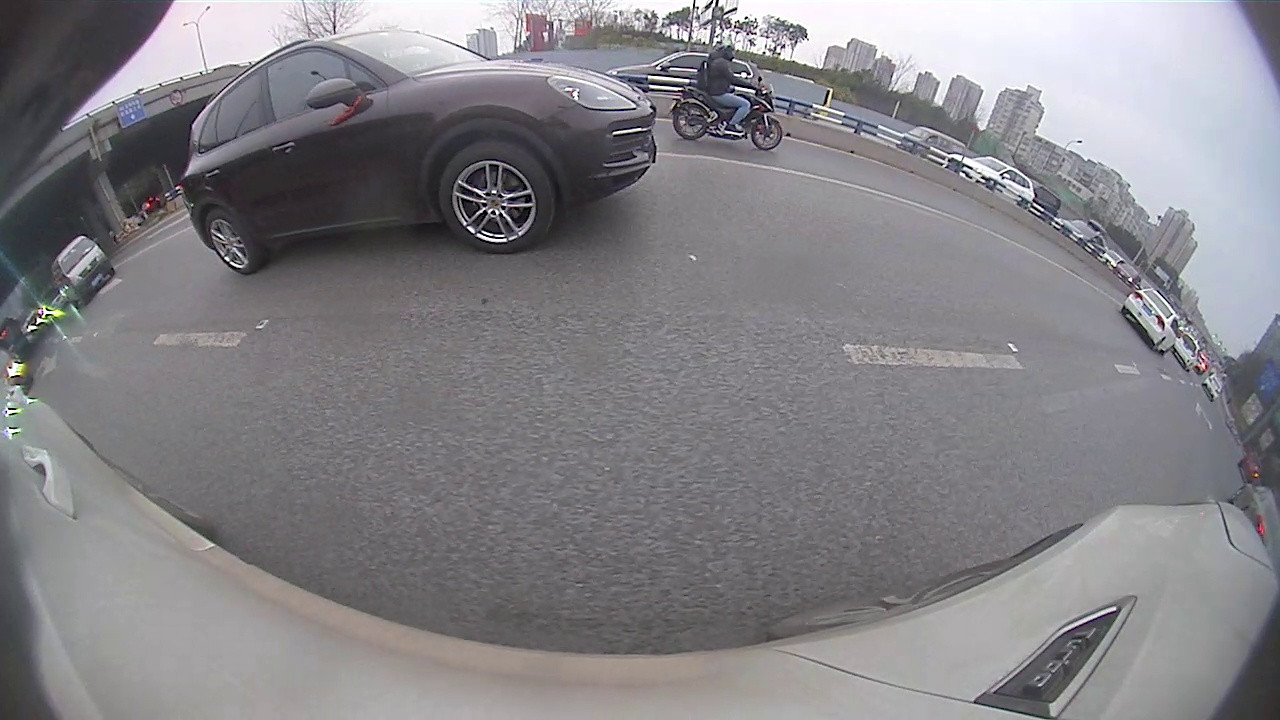car: (177, 26, 659, 275), (50, 233, 114, 310), (1121, 286, 1180, 355)
front: (437, 137, 557, 257)
rear: (203, 208, 262, 275)
rider: (668, 41, 785, 151)
